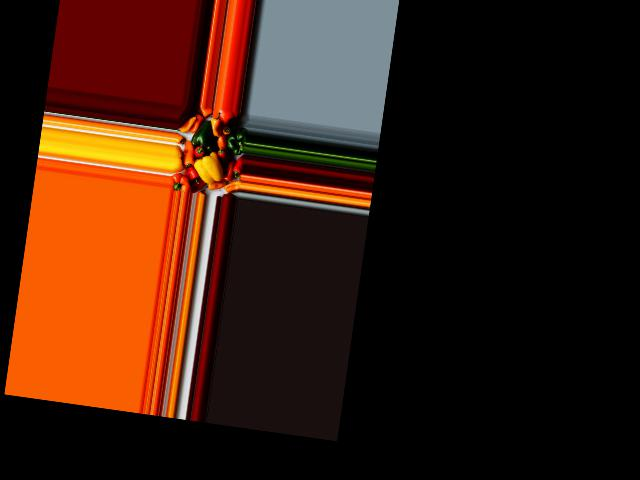bell_pepper: (229, 155, 244, 179)
